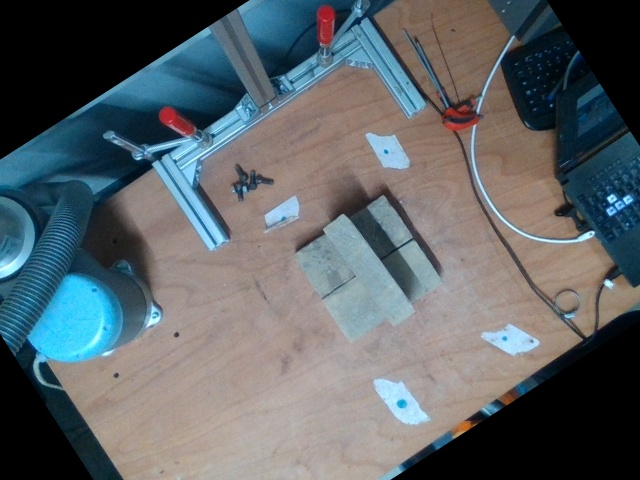brick-side: (325, 214, 415, 322)
